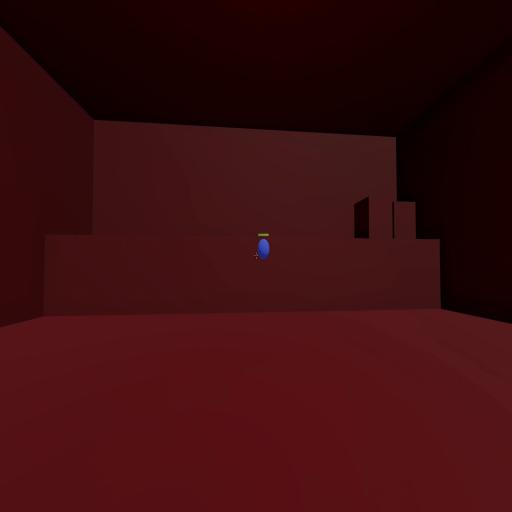Crosshair: (254, 252, 258, 260)
Target: (258, 239, 270, 260)
